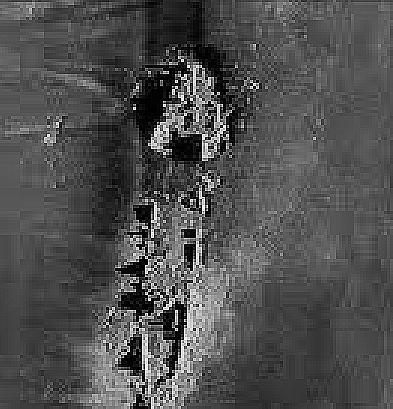ship: (105, 49, 236, 405)
